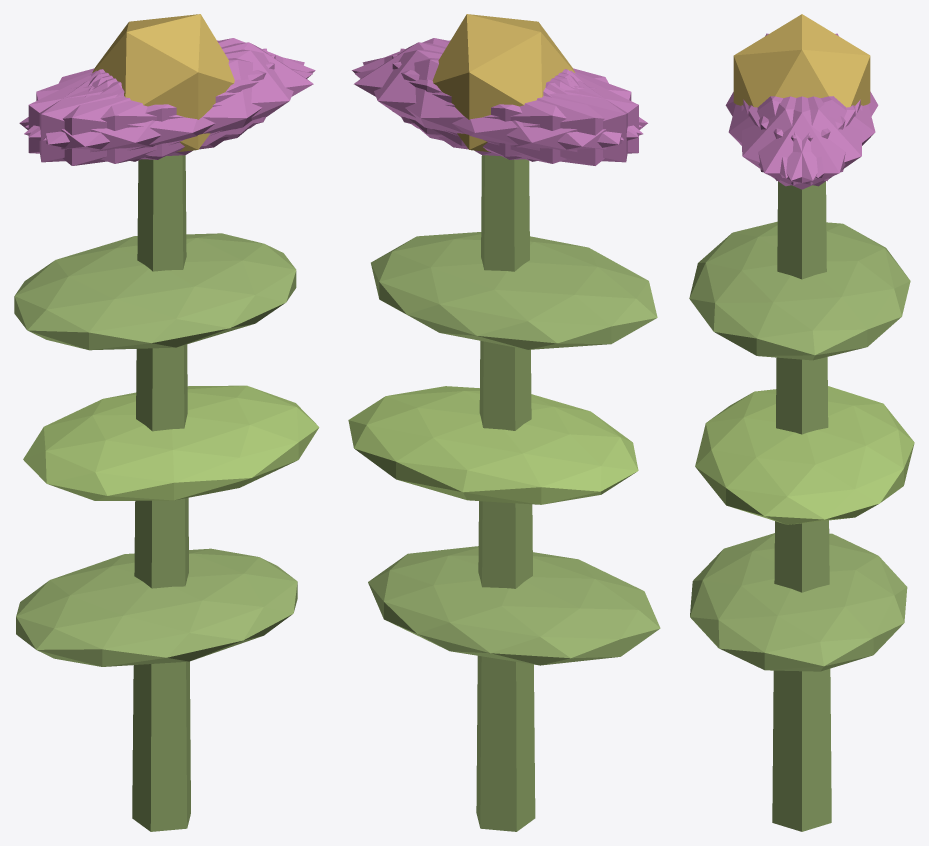
The model's file is marsdenia-tinctoria.glb.
The picture shows the model from 3 angles, left to right: view 1: azimuth 30°, elevation 25°; view 2: azimuth 150°, elevation 25°; view 3: azimuth 270°, elevation 25°; orthographic projection.
Parts seen in each view (by area): view 1: stem, leaf2, leaf0, leaf1, center, petal1, petal6, petal2, petal5, petal7, petal0, petal4 (+2 smaller); view 2: stem, leaf1, leaf2, leaf0, center, petal8, petal3, petal7, petal4, petal2, petal0, petal5 (+2 smaller); view 3: leaf1, stem, leaf2, leaf0, center, petal0, petal5, petal4, petal1, petal8.
Part boxes in pixels (x1,y1,x2,y2): stem: [132, 155, 190, 831]; leaf2: [14, 233, 296, 350]; leaf0: [16, 548, 297, 666]; leaf1: [23, 385, 319, 500]; center: [92, 14, 234, 152]; petal1: [24, 58, 312, 163]; petal6: [19, 70, 228, 165]; petal2: [39, 48, 266, 162]; petal5: [43, 49, 304, 156]; petal7: [28, 54, 275, 159]; petal0: [92, 42, 313, 146]; petal4: [25, 38, 315, 137]; stem: [476, 155, 535, 831]; leaf1: [348, 386, 638, 504]; leaf2: [371, 232, 657, 349]; leaf0: [368, 546, 660, 665]; center: [432, 14, 574, 152]; petal8: [354, 58, 643, 163]; petal3: [439, 70, 647, 165]; petal7: [400, 48, 627, 162]; petal4: [362, 49, 623, 156]; petal2: [392, 54, 638, 159]; petal0: [354, 42, 575, 146]; petal5: [352, 38, 641, 137]; leaf1: [695, 386, 914, 524]; stem: [772, 181, 831, 831]; leaf2: [689, 221, 910, 360]; leaf0: [690, 533, 907, 671]; center: [733, 14, 870, 107]; petal0: [743, 96, 860, 189]; petal5: [741, 96, 855, 186]; petal4: [748, 96, 862, 186]; petal1: [728, 96, 845, 178]; petal8: [758, 96, 875, 178].
Size of the model in its own units: 0.149 by 0.3887 by 0.1009.
